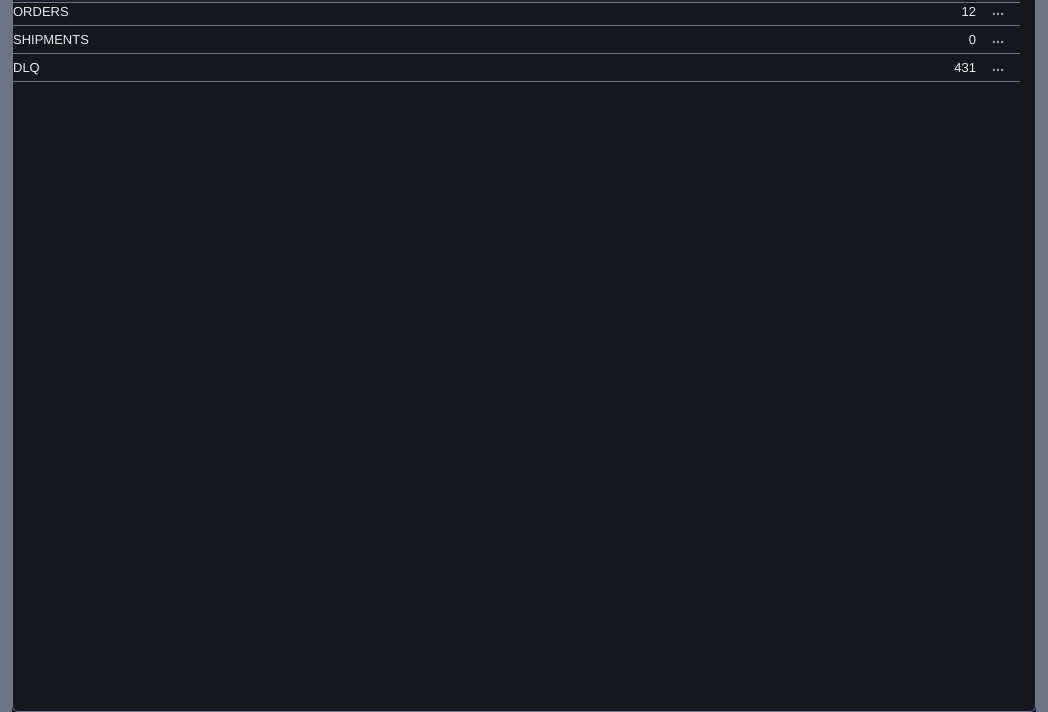
it: DataTable › row menu (ADR-0107) › opens on right-click, but leaves the browser menu to Shift+right-click
Step 1. Right-click the text "ORDERS" → (41, 12), box [13,3,69,20]
Step 2. Right-click the text "ORDERS" → (41, 12), box [13,3,69,20]
(page scrolled)
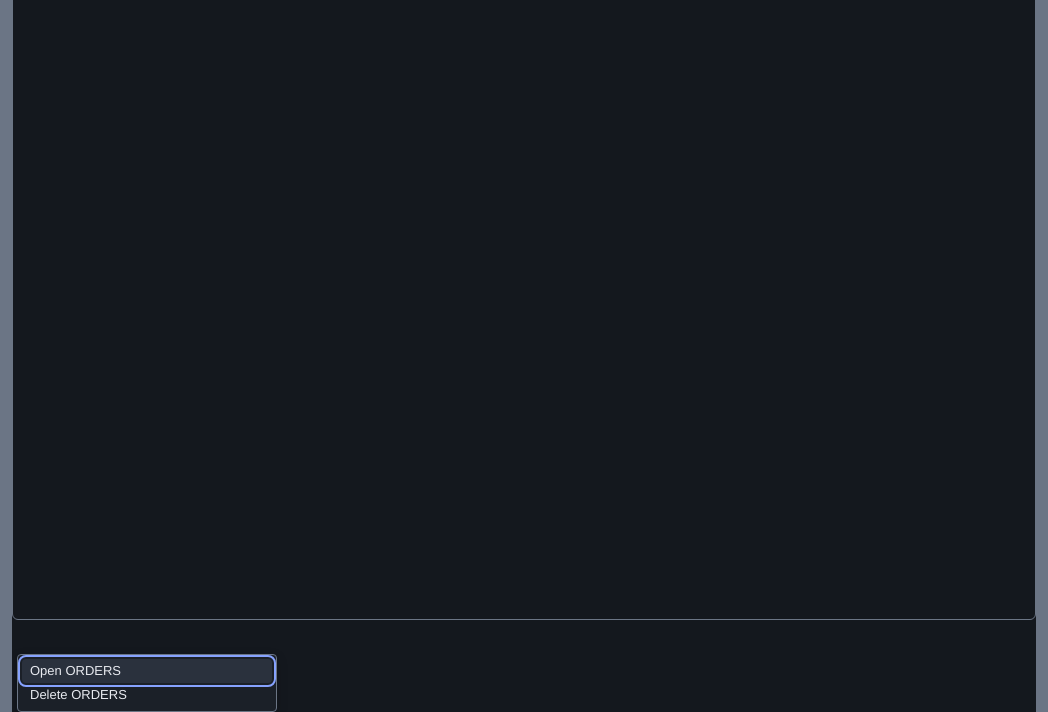
Now the menu named "Actions for ORDERS" is shown, box [17,654,277,711]
